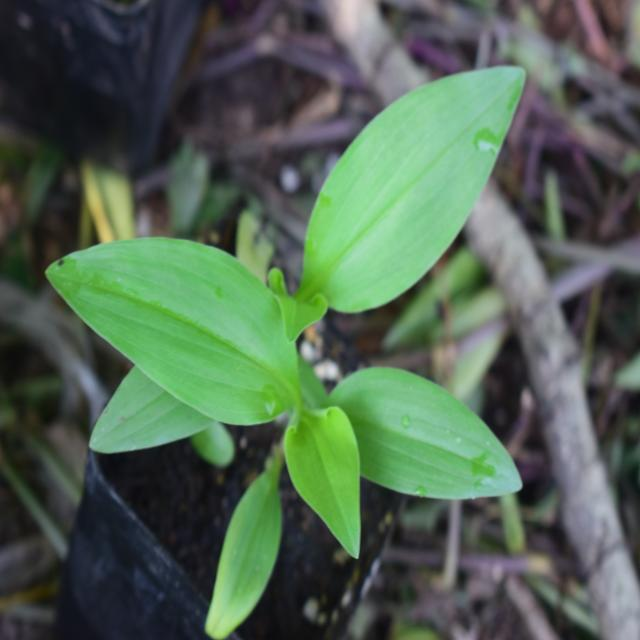Common Dayflower: (21, 223, 506, 580), (300, 40, 529, 316)
